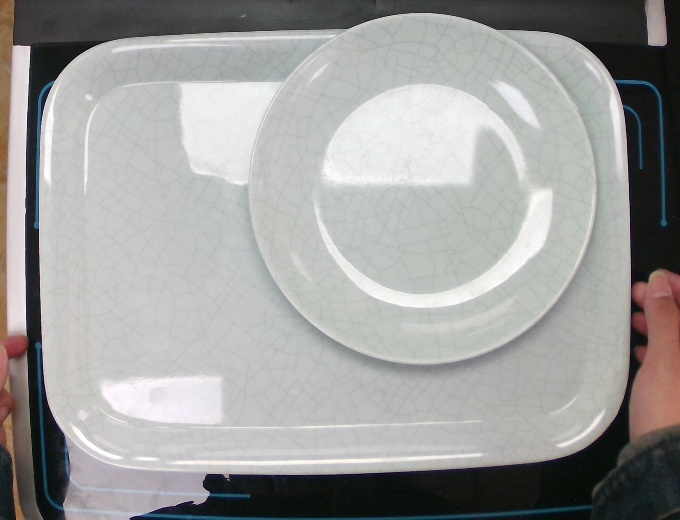JYsf-Da_Yuan_Pan: (247, 14, 596, 368)
